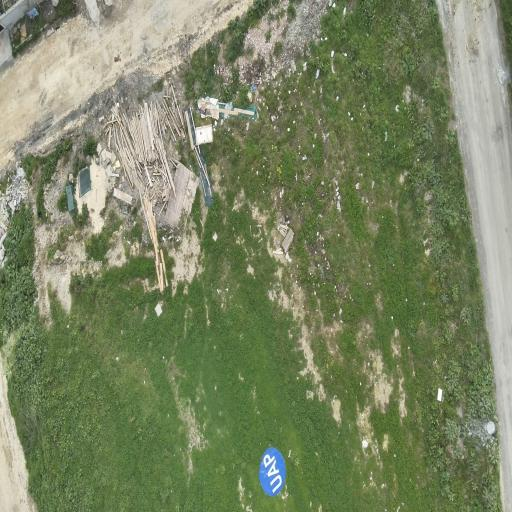UAP: (260, 448, 285, 495)
